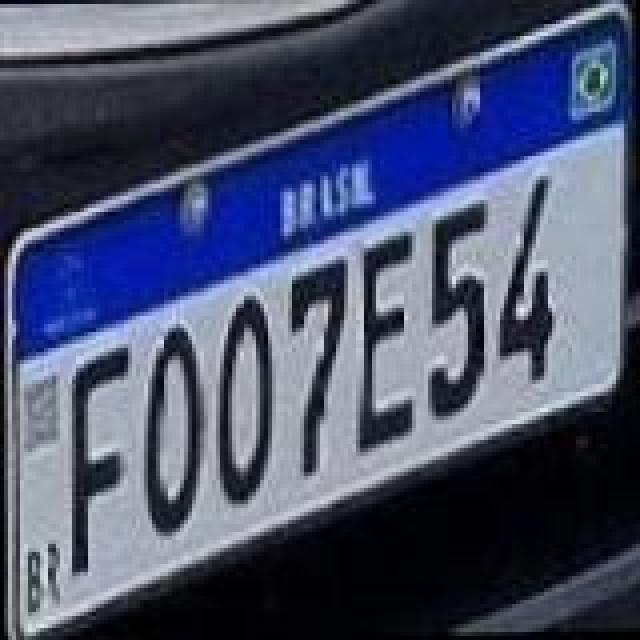4: (494, 172, 562, 388)
5: (416, 206, 496, 426)
7: (280, 256, 352, 492)
E: (350, 222, 418, 458)
F: (60, 342, 136, 578)
O: (136, 316, 204, 536), (212, 292, 280, 508)
